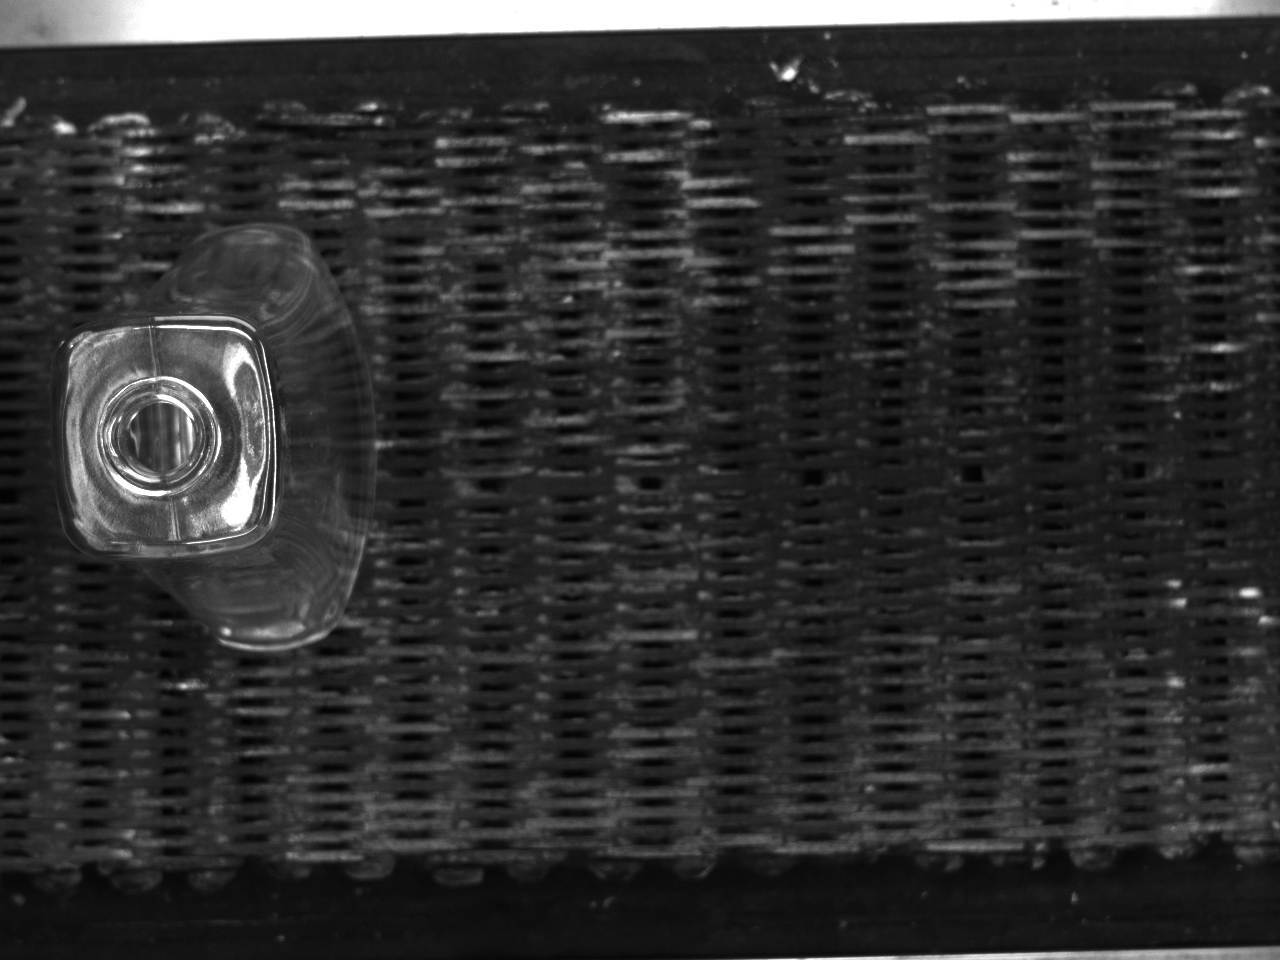bottleneck: (97, 375, 222, 498)
